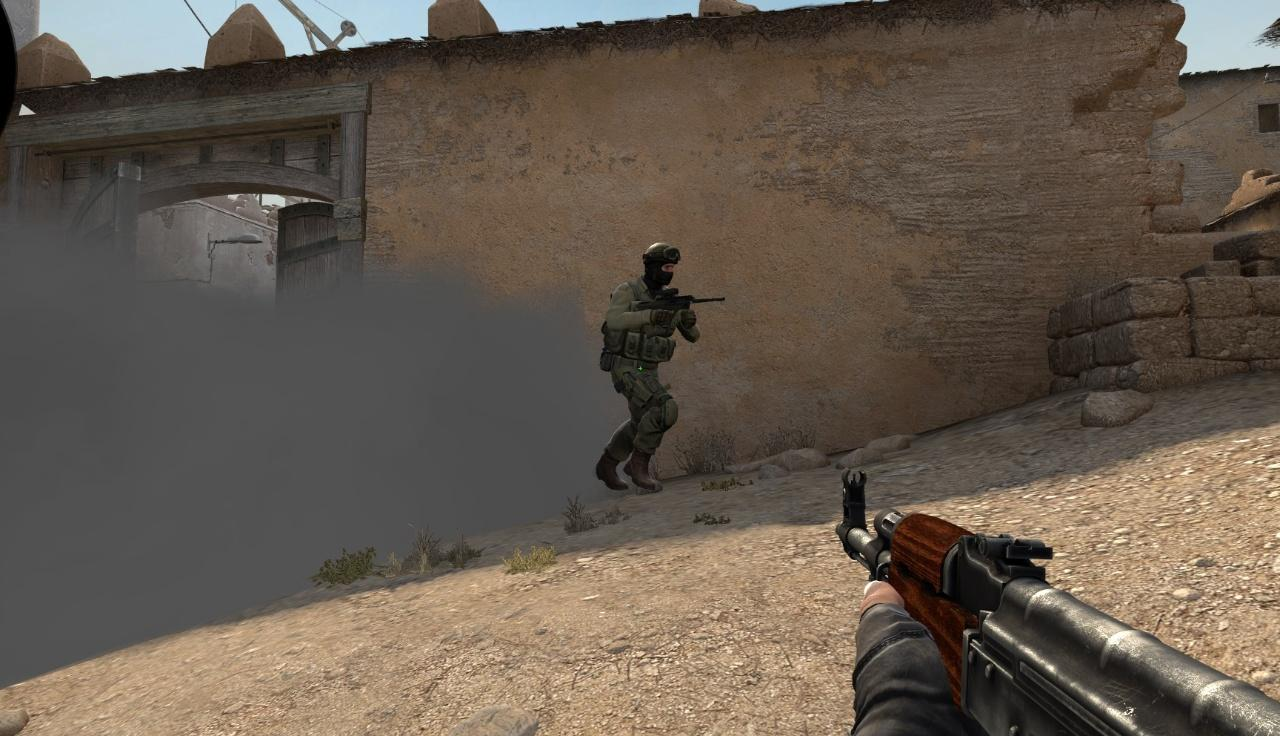ct: (596, 243, 701, 493)
cthead: (644, 244, 677, 286)
rifle: (835, 468, 1280, 736)
